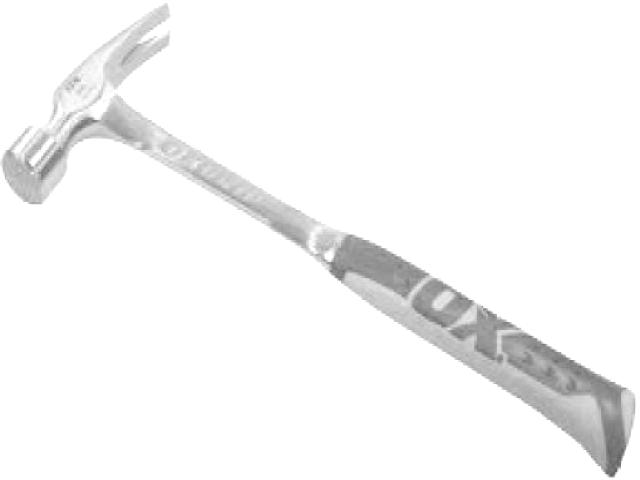Hammer: (2, 5, 634, 475)
